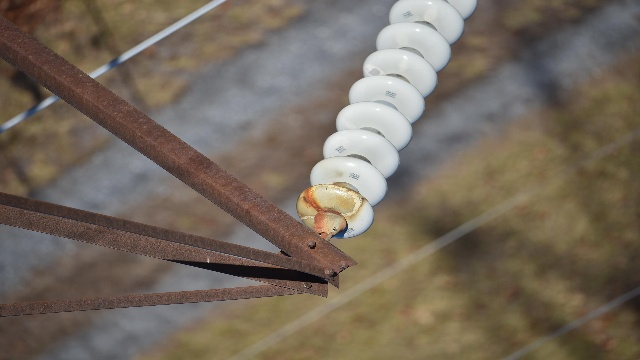insulator_unspecified: (298, 0, 478, 240)
pollution_flashover_local: (296, 179, 365, 217), (364, 62, 388, 79), (423, 6, 439, 24)
